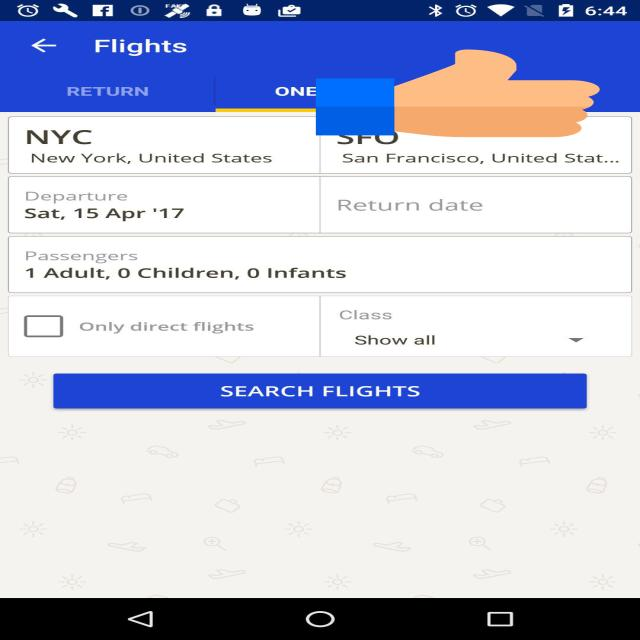privacy zuckering: (316, 48, 600, 140)
